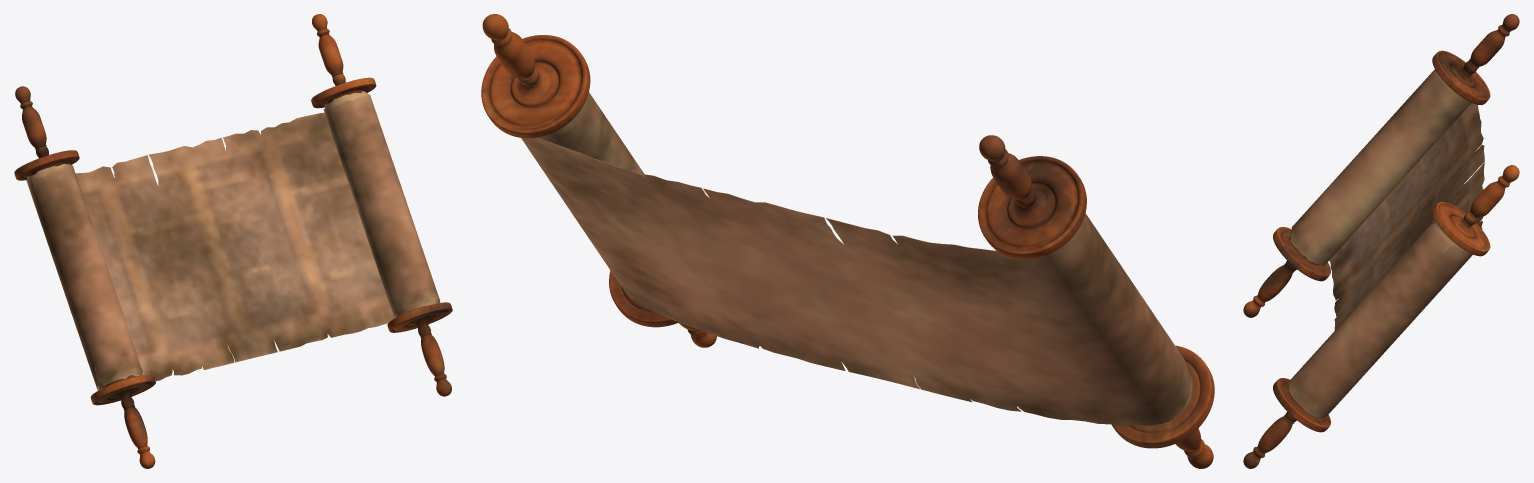
The model's file is scroll.glb.
3 views of the same model, side by side, from view 1: azimuth 30°, elevation 25°; view 2: azimuth 150°, elevation 25°; view 3: azimuth 270°, elevation 25° (orthographic). The views are drawn at different scales.
Parts seen in each view (by area): view 1: Papel_Viejo_0, base_1; view 2: Papel_Viejo_0, base_1; view 3: Papel_Viejo_0, base_1.
Boxes of the visible parts, x1,y1,x2,y2 form: Papel_Viejo_0: (26, 91, 440, 390); base_1: (14, 14, 452, 468); Papel_Viejo_0: (521, 92, 1192, 425); base_1: (481, 14, 1214, 468); Papel_Viejo_0: (1288, 69, 1484, 418); base_1: (1243, 14, 1519, 468).
Size of the model in its own units: 7.95 by 6.2 by 5.13.
2 materials, 2 textured.
